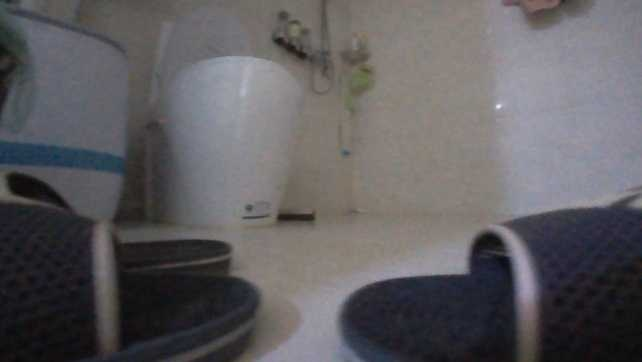toilet: (148, 6, 301, 231)
